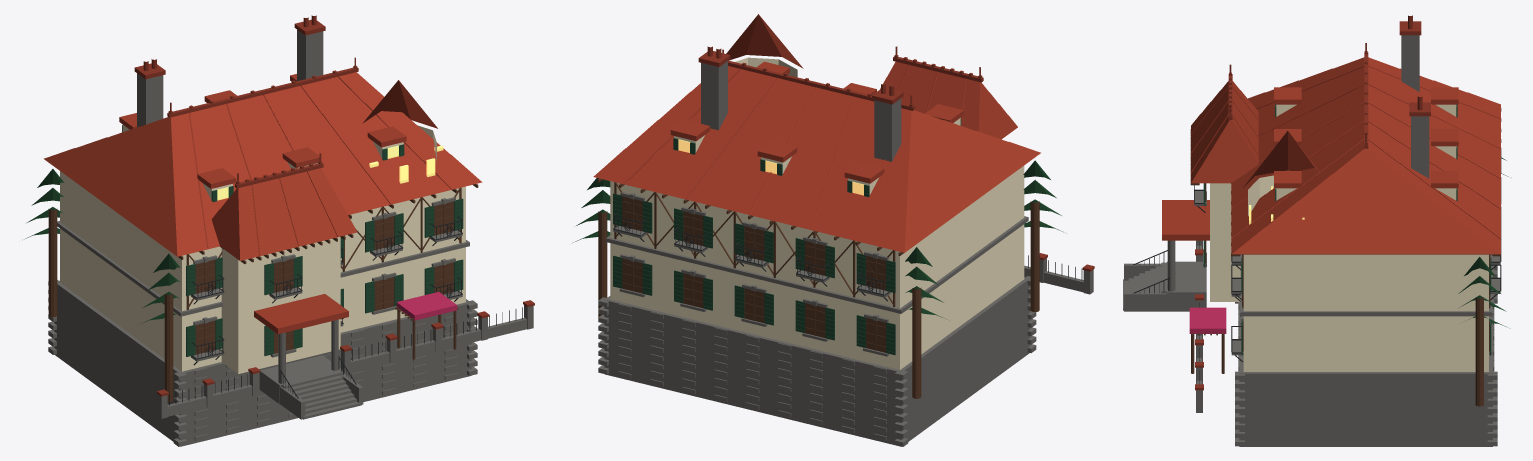
File: fv_cd_09_nha_khach_cong_doan_tuong_vi_villa.glb
3 renders of one model, left to right at view 1: azimuth 30°, elevation 25°; view 2: azimuth 150°, elevation 25°; view 3: azimuth 270°, elevation 25°, orthographic. The views are drawn at different scales.
Parts seen in each view (by area): view 1: marseille_corrugated_roof_tiles, granite_foundation_and_stairs, stucco_facade_and_dormers, colombage_timber_and_eaves, pine_green_louvered_shutters, ridge_cresting_and_chimneys, wrought_iron_balconies_3d, pine_trees_and_garden_hedges, bougainvillea_pergola_clusters, warm_night_windows_ffb86c; view 2: marseille_corrugated_roof_tiles, granite_foundation_and_stairs, stucco_facade_and_dormers, colombage_timber_and_eaves, pine_green_louvered_shutters, ridge_cresting_and_chimneys, pine_trees_and_garden_hedges, wrought_iron_balconies_3d; view 3: marseille_corrugated_roof_tiles, stucco_facade_and_dormers, granite_foundation_and_stairs, colombage_timber_and_eaves, ridge_cresting_and_chimneys, bougainvillea_pergola_clusters, wrought_iron_balconies_3d, pine_green_louvered_shutters, pine_trees_and_garden_hedges.
Boxes of the visible parts, x1,y1,x2,y2 form: marseille_corrugated_roof_tiles: (43,72,482,334); granite_foundation_and_stairs: (48,30,533,446); stucco_facade_and_dormers: (60,125,465,373); colombage_timber_and_eaves: (48,184,478,402); pine_green_louvered_shutters: (122,125,463,356); ridge_cresting_and_chimneys: (134,15,534,396); wrought_iron_balconies_3d: (169,216,522,405); pine_trees_and_garden_hedges: (24,169,180,325); bougainvillea_pergola_clusters: (396,292,457,320); warm_night_windows_ffb86c: (217,145,443,200); marseille_corrugated_roof_tiles: (593,14,1040,252); granite_foundation_and_stairs: (598,61,1093,446); stucco_facade_and_dormers: (610,57,1024,369); colombage_timber_and_eaves: (597,178,1039,398); pine_green_louvered_shutters: (613,119,961,355); ridge_cresting_and_chimneys: (698,46,1094,271); pine_trees_and_garden_hedges: (573,160,1063,320); wrought_iron_balconies_3d: (613,211,1082,301); marseille_corrugated_roof_tiles: (1162,57,1501,254); stucco_facade_and_dormers: (1210,104,1488,371); granite_foundation_and_stairs: (1123,35,1500,446); colombage_timber_and_eaves: (1190,108,1501,406); ridge_cresting_and_chimneys: (1195,15,1430,390); bougainvillea_pergola_clusters: (1189,307,1226,333); wrought_iron_balconies_3d: (1133,153,1501,383); pine_green_louvered_shutters: (1203,104,1491,355); pine_trees_and_garden_hedges: (1458,157,1510,328).
Size of the model in its own units: 25.6 by 20.33 by 23.25.
